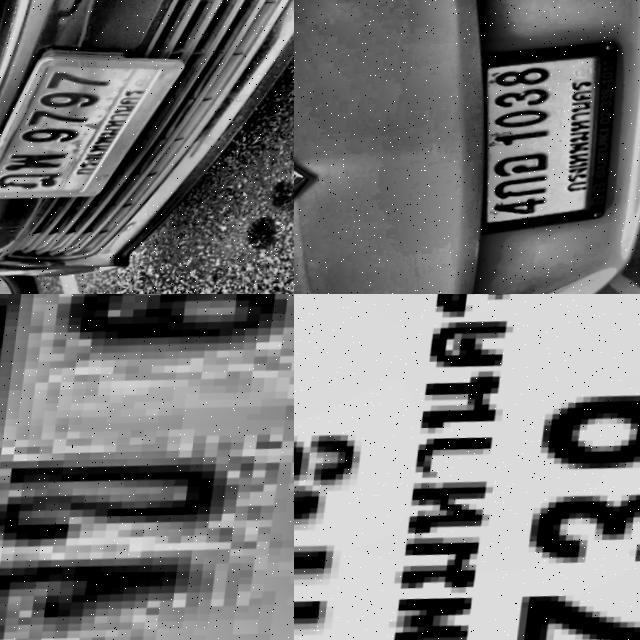license-plate: (294, 294, 640, 640), (0, 294, 294, 640), (459, 40, 636, 252), (0, 46, 196, 216)
